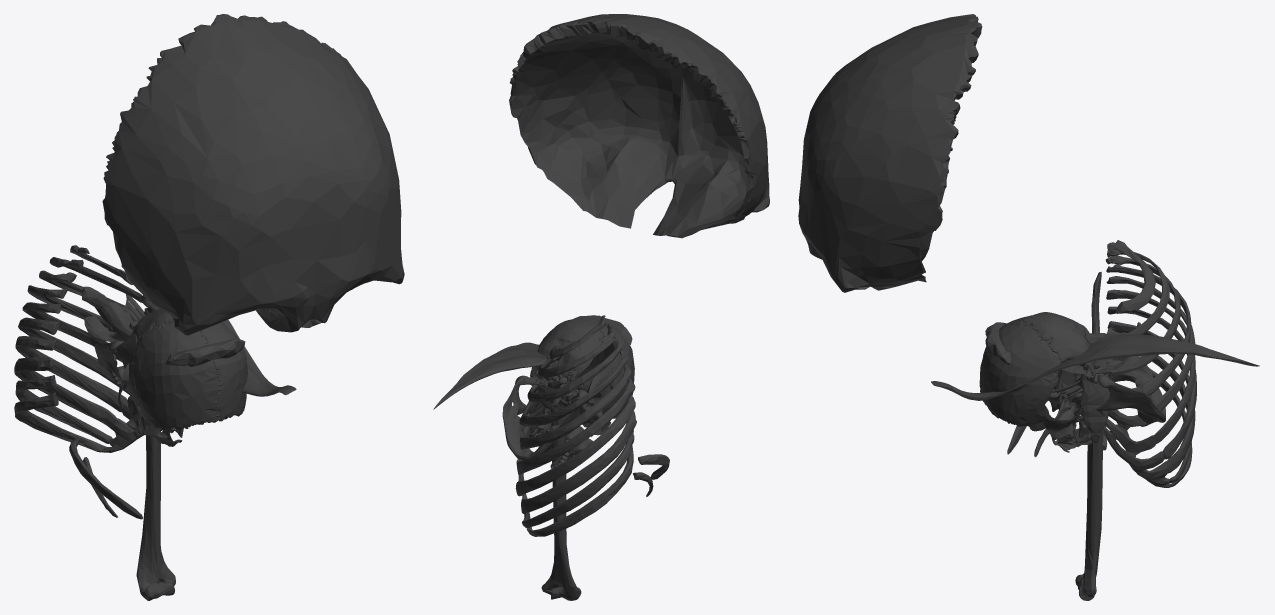
File: sharedassets54.glb
3 renders of one model, left to right at view 1: azimuth 30°, elevation 25°; view 2: azimuth 150°, elevation 25°; view 3: azimuth 270°, elevation 25°, orthographic. The views are drawn at different scales.
Visible parts, largest first — view 1: 0130_Frontal__001097, 0118_Parietal, R__001095, 0004_Humerus _arm, brachium_, R__000807, 0119_Parietal, L__001094, 0047_Eighth rib _08_, R__002280, 0056_Seventh rib _07_, R__002279, 0049_Tenth rib _10_, R__002282, 0048_Ninth rib _09_, R__002281, 0055_Sixth rib _06_, R__002278, 0043_Manubrium__001162, 0001_Trapezius, R__1000437, 0054_Fifth rib _05_, R__002277 (+10 smaller); view 2: 0130_Frontal__001097, 0004_Humerus _arm, brachium_, R__000807, 0120_Occipital__001132, 0001_Trapezius, R__1000437, 0047_Eighth rib _08_, R__002280, 0056_Seventh rib _07_, R__002279, 0114_Mandible_body_001091, 0055_Sixth rib _06_, R__002278, 0048_Ninth rib _09_, R__002281, 0049_Tenth rib _10_, R__002282, 0054_Fifth rib _05_, R__002277, 0053_Fourth rib _04_, R__002276 (+8 smaller); view 3: 0130_Frontal__001097, 0119_Parietal, L__001094, 0001_Trapezius, R__1000437, 0004_Humerus _arm, brachium_, R__000807, 0114_Mandible_body_001091, 0120_Occipital__001132, 0055_Sixth rib _06_, R__002278, 0056_Seventh rib _07_, R__002279, 0054_Fifth rib _05_, R__002277, 0044_Body of sternum__001163, 0168_Sphenoid__001143, 0047_Eighth rib _08_, R__002280 (+6 smaller).
Boxes of the visible parts, left/top/right/bottom form: 0130_Frontal__001097: left=102, top=14, right=404, bottom=335; 0118_Parietal, R__001095: left=132, top=321, right=220, bottom=430; 0004_Humerus _arm, brachium_, R__000807: left=136, top=431, right=175, bottom=600; 0119_Parietal, L__001094: left=200, top=322, right=247, bottom=421; 0047_Eighth rib _08_, R__002280: left=14, top=357, right=143, bottom=444; 0056_Seventh rib _07_, R__002279: left=15, top=336, right=131, bottom=419; 0049_Tenth rib _10_, R__002282: left=14, top=392, right=122, bottom=452; 0048_Ninth rib _09_, R__002281: left=15, top=375, right=129, bottom=449; 0055_Sixth rib _06_, R__002278: left=18, top=317, right=130, bottom=395; 0043_Manubrium__001162: left=165, top=337, right=245, bottom=366; 0001_Trapezius, R__1000437: left=122, top=295, right=296, bottom=396; 0054_Fifth rib _05_, R__002277: left=22, top=302, right=121, bottom=361; 0130_Frontal__001097: left=509, top=14, right=769, bottom=238; 0004_Humerus _arm, brachium_, R__000807: left=541, top=380, right=581, bottom=600; 0120_Occipital__001132: left=530, top=317, right=604, bottom=392; 0001_Trapezius, R__1000437: left=433, top=342, right=613, bottom=409; 0047_Eighth rib _08_, R__002280: left=521, top=411, right=636, bottom=515; 0056_Seventh rib _07_, R__002279: left=515, top=395, right=635, bottom=496; 0114_Mandible_body_001091: left=502, top=375, right=587, bottom=460; 0055_Sixth rib _06_, R__002278: left=516, top=378, right=635, bottom=475; 0048_Ninth rib _09_, R__002281: left=522, top=430, right=634, bottom=527; 0049_Tenth rib _10_, R__002282: left=526, top=446, right=633, bottom=536; 0054_Fifth rib _05_, R__002277: left=520, top=364, right=631, bottom=449; 0053_Fourth rib _04_, R__002276: left=519, top=350, right=628, bottom=426; 0130_Frontal__001097: left=798, top=14, right=982, bottom=292; 0119_Parietal, L__001094: left=979, top=320, right=1061, bottom=431; 0001_Trapezius, R__1000437: left=931, top=333, right=1259, bottom=400; 0004_Humerus _arm, brachium_, R__000807: left=1075, top=431, right=1103, bottom=600; 0114_Mandible_body_001091: left=1096, top=365, right=1165, bottom=426; 0120_Occipital__001132: left=1023, top=312, right=1095, bottom=381; 0055_Sixth rib _06_, R__002278: left=1105, top=289, right=1195, bottom=454; 0056_Seventh rib _07_, R__002279: left=1102, top=306, right=1196, bottom=472; 0054_Fifth rib _05_, R__002277: left=1106, top=276, right=1195, bottom=429; 0044_Body of sternum__001163: left=1079, top=333, right=1109, bottom=433; 0168_Sphenoid__001143: left=1043, top=382, right=1085, bottom=441; 0047_Eighth rib _08_, R__002280: left=1107, top=321, right=1195, bottom=482.
Size of the model in its own units: 0.175 by 0.3779 by 0.276.
1 material, 1 textured.
